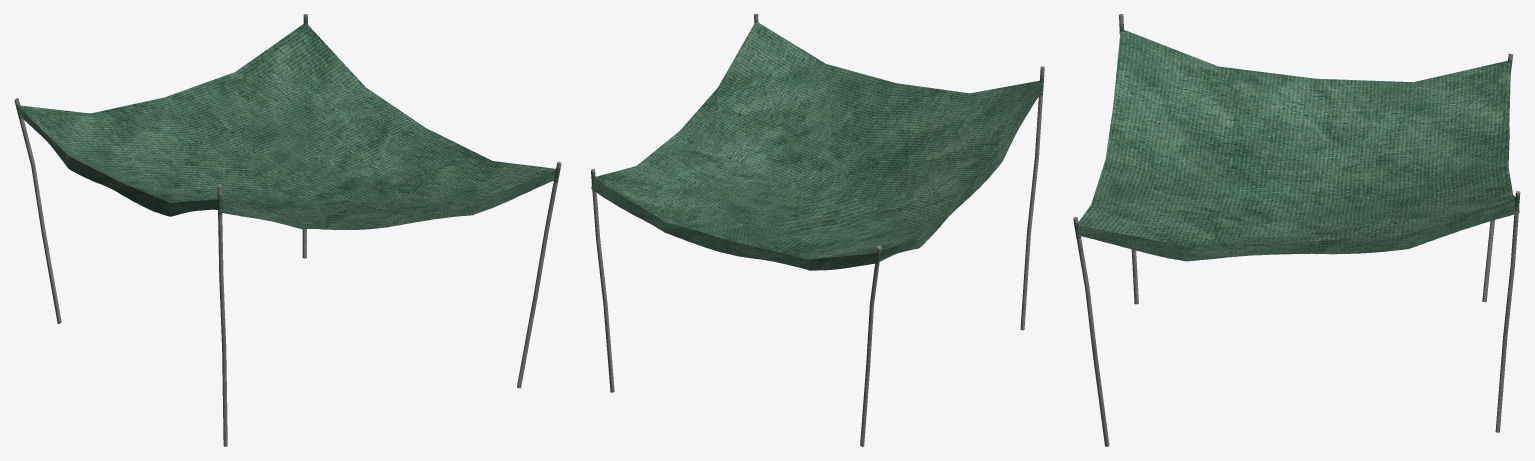
The model's file is poi_nboo_tent_small_l0.fbx.
3 renders of one model, left to right at view 1: azimuth 30°, elevation 25°; view 2: azimuth 150°, elevation 25°; view 3: azimuth 270°, elevation 25°, orthographic. The views are drawn at different scales.
Parts seen in each view (by area): view 1: mesh_node; view 2: mesh_node; view 3: mesh_node.
Part boxes in pixels (left/top/right/bottom): mesh_node: left=14, top=14, right=561, bottom=446; mesh_node: left=591, top=14, right=1044, bottom=446; mesh_node: left=1073, top=14, right=1520, bottom=446.
Bounding box in the file's own units: 4.87 × 3.69 × 5.3.
